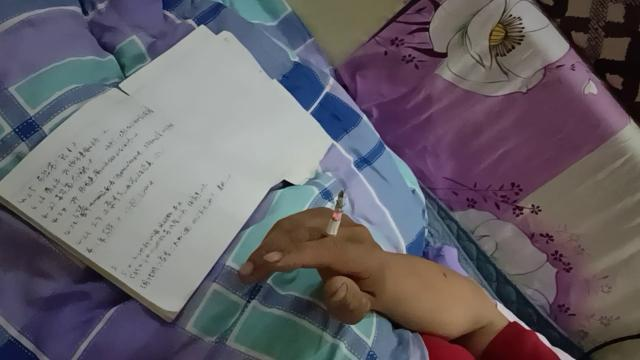Smoking: (320, 190, 346, 248)
